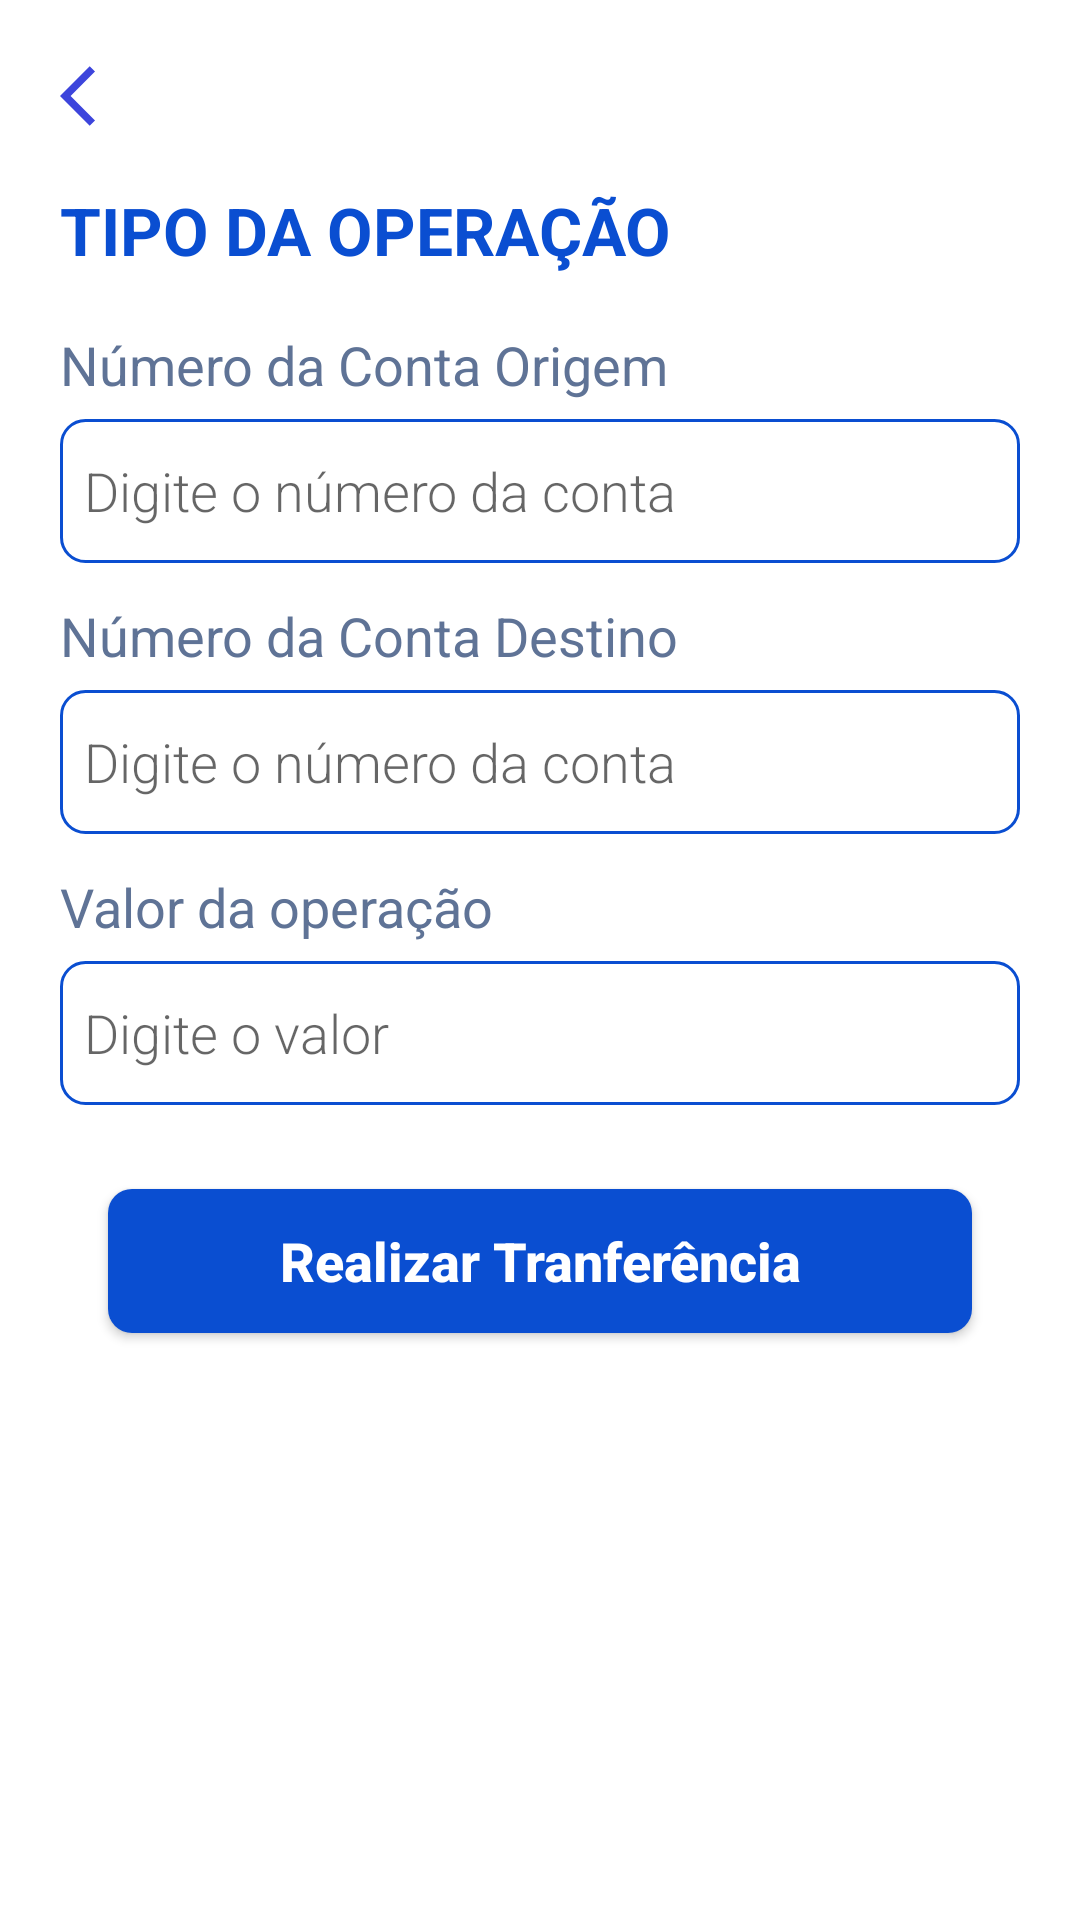

Icons on this 1080 × 1920 Android screen, each with its box as (x1, y1, x2, y2):
arrow back: (60, 66, 95, 126)
